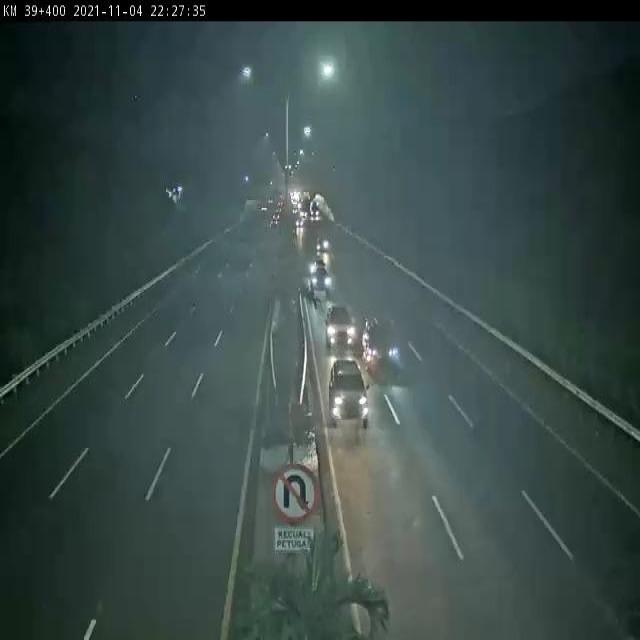car: (327, 358, 371, 426), (362, 316, 401, 372), (324, 304, 356, 347), (309, 265, 331, 292)
